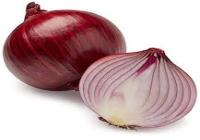onion: (2, 3, 131, 91), (80, 51, 198, 130)
